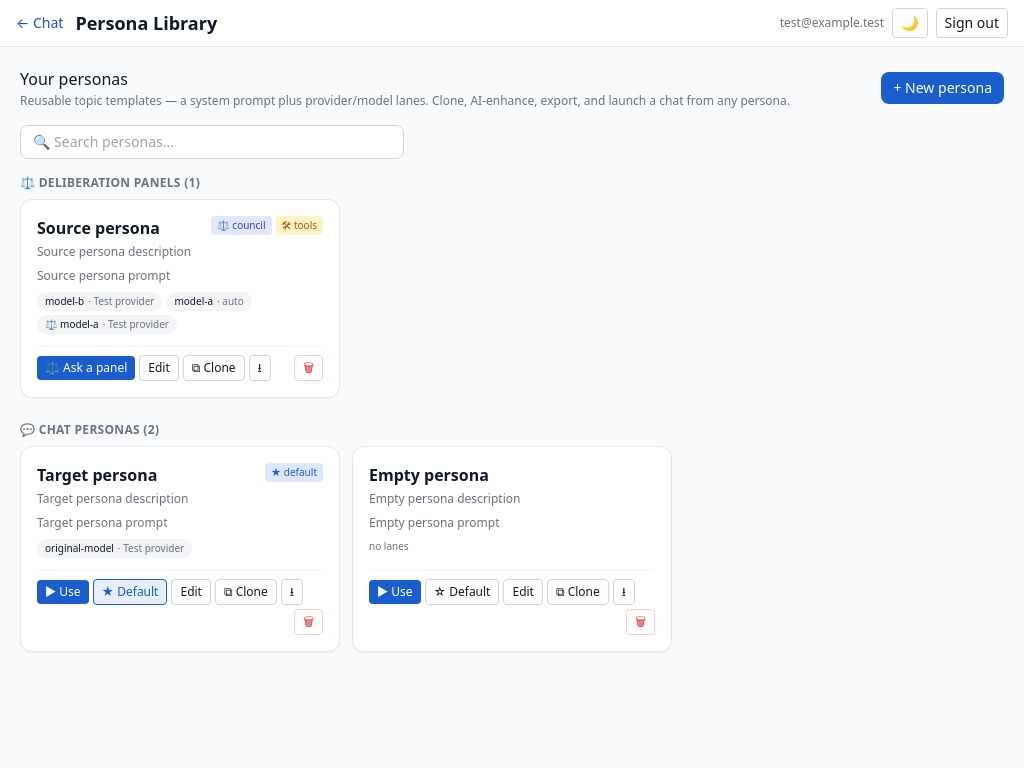
Test: persona editor lane copy persistence › also copies into a new persona without creating anything until Save
This screenshot has width=1024, height=768.
Expected: the heading "Target persona" is shown, [37, 463, 157, 487]
Step 1. Click the button "+ New persona" → x=943, y=88, box [882, 72, 1004, 104]
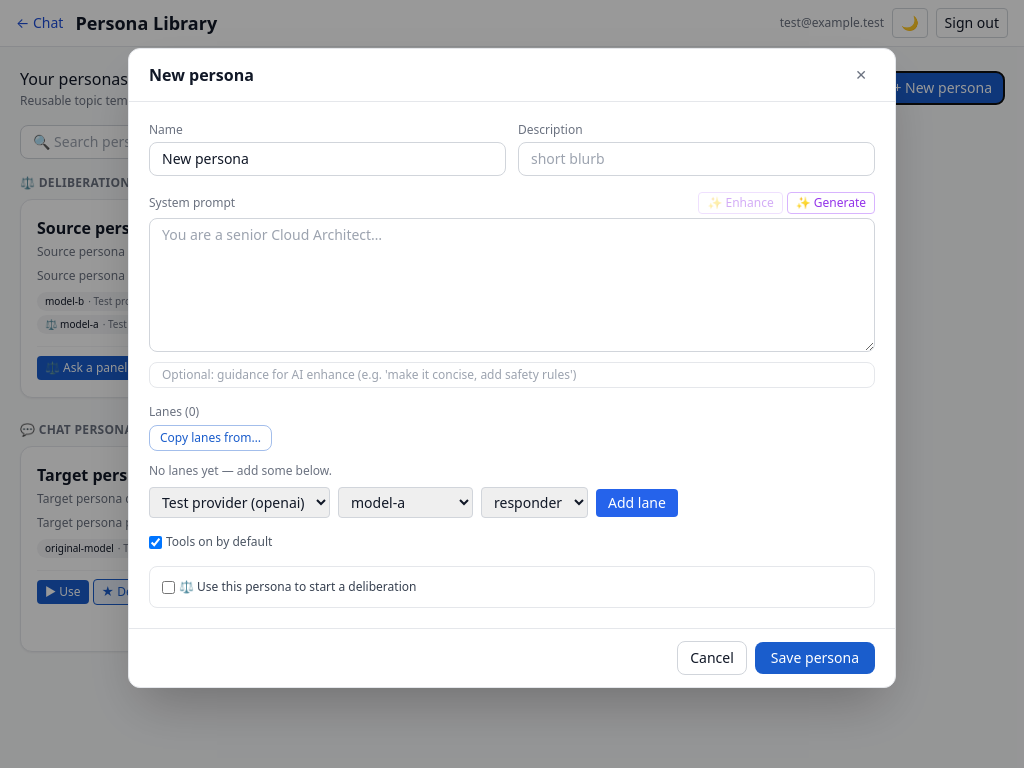
Step 2. Click the button "Copy lanes from…" → x=210, y=438, box [149, 425, 272, 451]
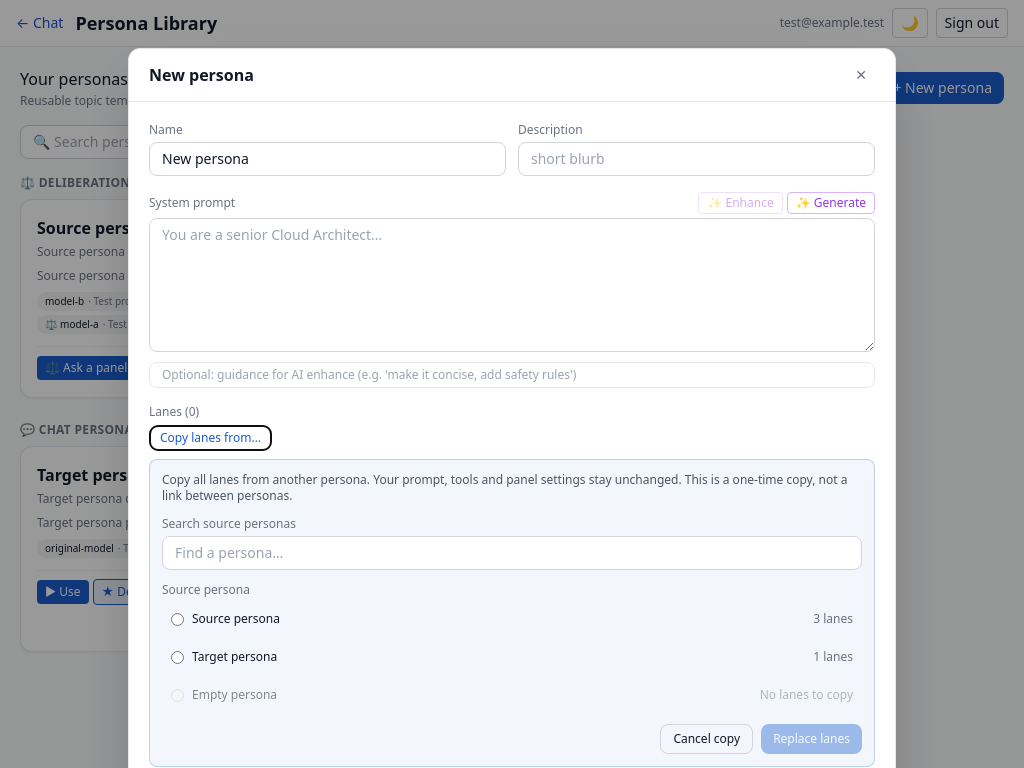
Step 3. Click the radio button labelled "Source persona 3 lanes" → x=178, y=619, box [171, 612, 184, 626]
(page scrolled)
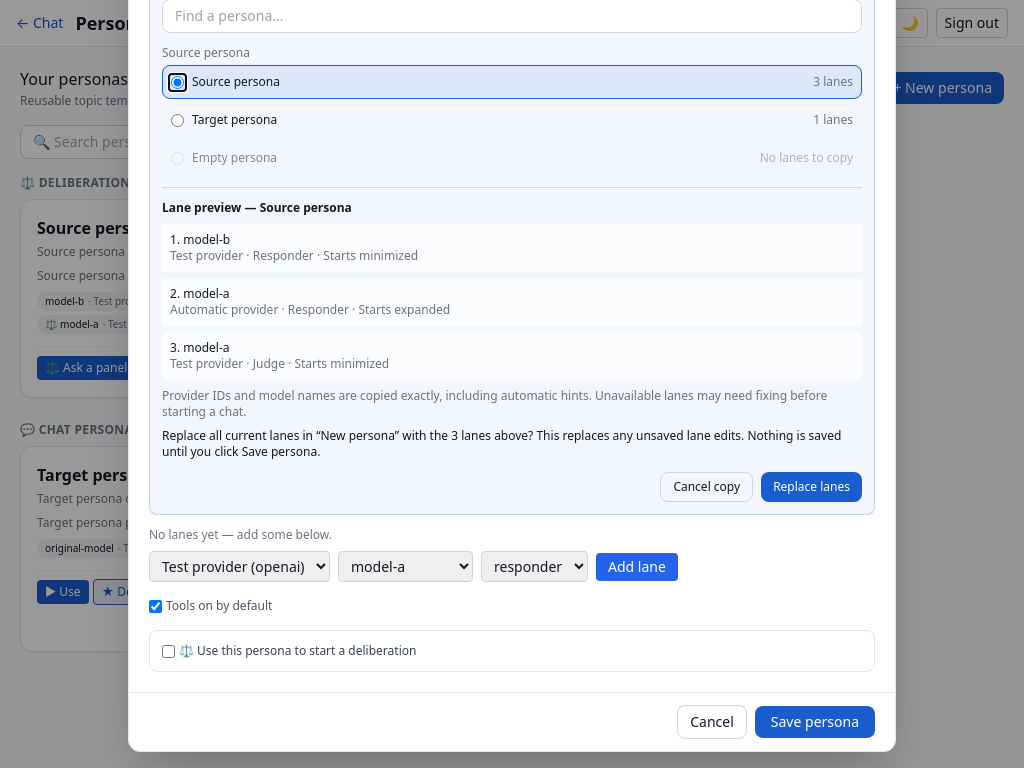
Step 4. Click the button "Replace lanes" → x=812, y=487, box [761, 472, 862, 502]
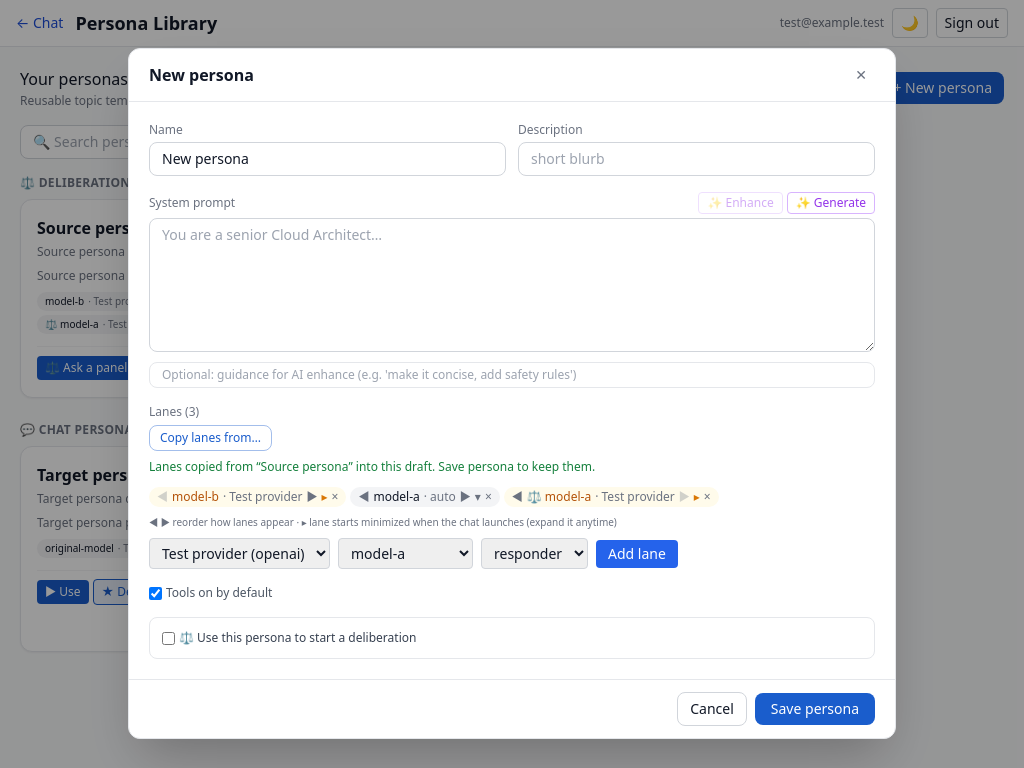
Step 5. Click the button "Save persona" → x=815, y=709, box [755, 693, 875, 725]
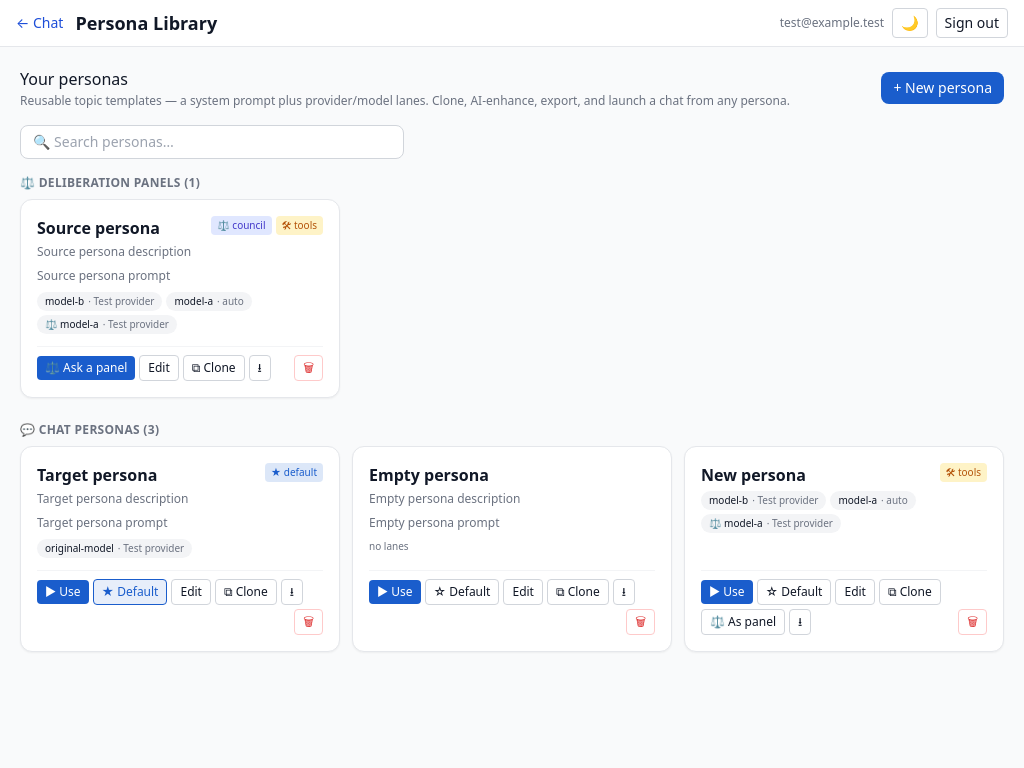
Now the dialog is gone
